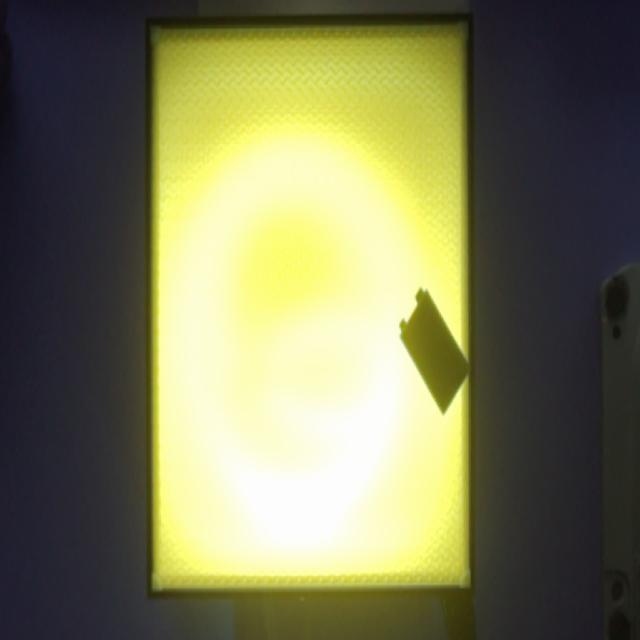bateria: (399, 288, 471, 416)
mesa: (146, 13, 474, 600)
